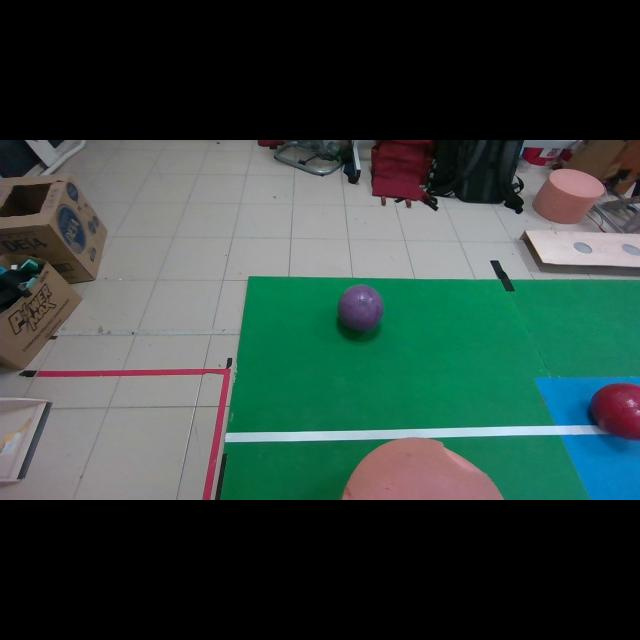P: (338, 285, 384, 331)
R: (591, 382, 640, 440)
